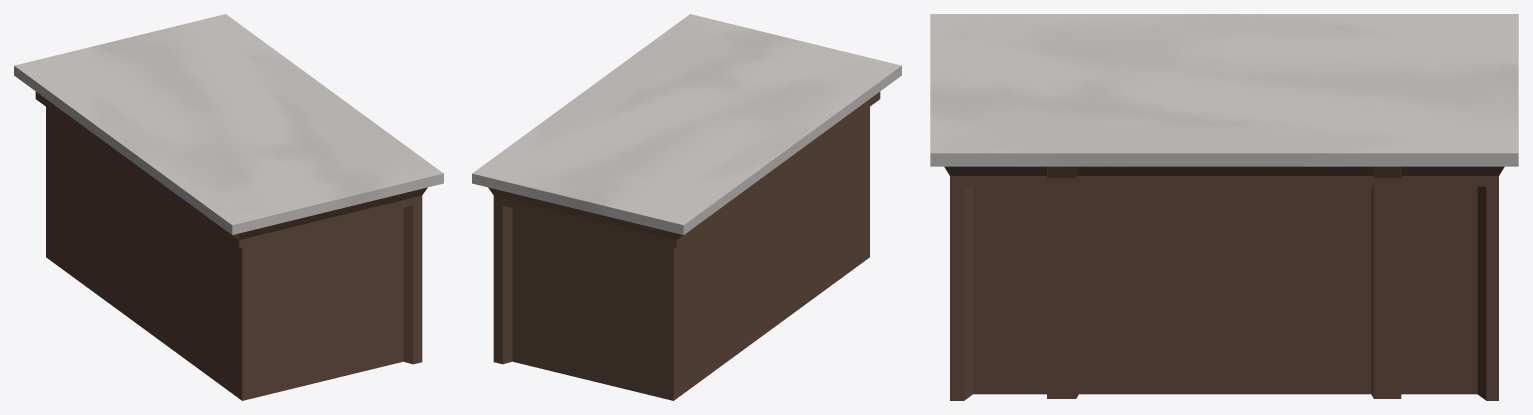
The model's file is comptoir.fbx.
The picture shows the model from 3 angles, left to right: view 1: azimuth 30°, elevation 25°; view 2: azimuth 150°, elevation 25°; view 3: azimuth 270°, elevation 25°; orthographic projection. The views are drawn at different scales.
Visible parts, largest first — view 1: pCube1; view 2: pCube1; view 3: pCube1.
Part boxes in pixels (left/top/right/bottom): pCube1: left=14, top=14, right=443, bottom=400; pCube1: left=472, top=14, right=901, bottom=400; pCube1: left=930, top=14, right=1518, bottom=400.
Bounding box in the file's own units: 468 × 403 × 836.
